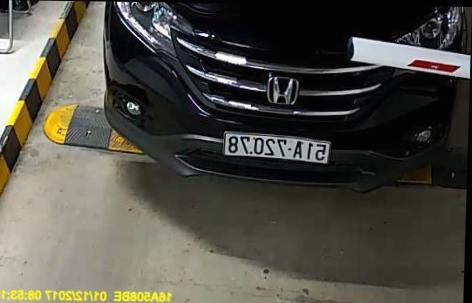License_Plate: (221, 131, 335, 164)
